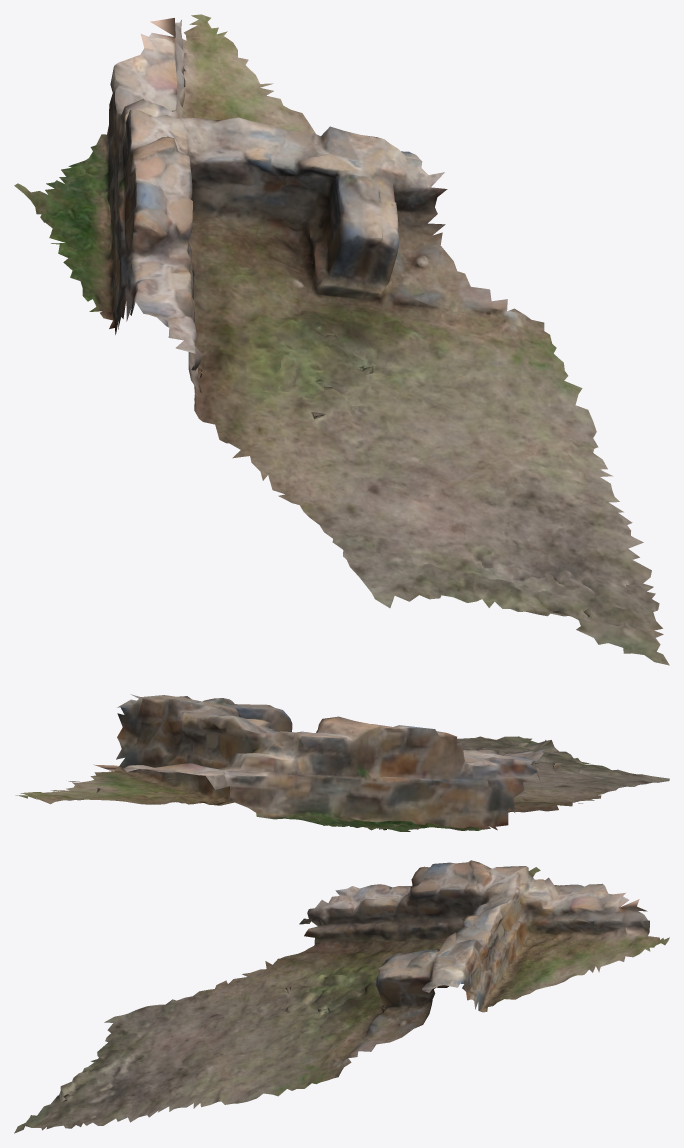
File: cpuzzle500_2.glb
3 views of the same model, one above another, from view 1: azimuth 30°, elevation 25°; view 2: azimuth 150°, elevation 25°; view 3: azimuth 270°, elevation 25° (orthographic). The views are drawn at different scales.
Parts seen in each view (by area): view 1: Mesh_0.008; view 2: Mesh_0.008; view 3: Mesh_0.008.
Part boxes in pixels (x1=…): Mesh_0.008: x1=14, y1=14, x2=669, y2=665; Mesh_0.008: x1=15, y1=694, x2=669, y2=831; Mesh_0.008: x1=14, y1=860, x2=669, y2=1133.
Bounding box in the file's own units: 8.89 × 6.86 × 18.9.
1 material, 1 textured.
